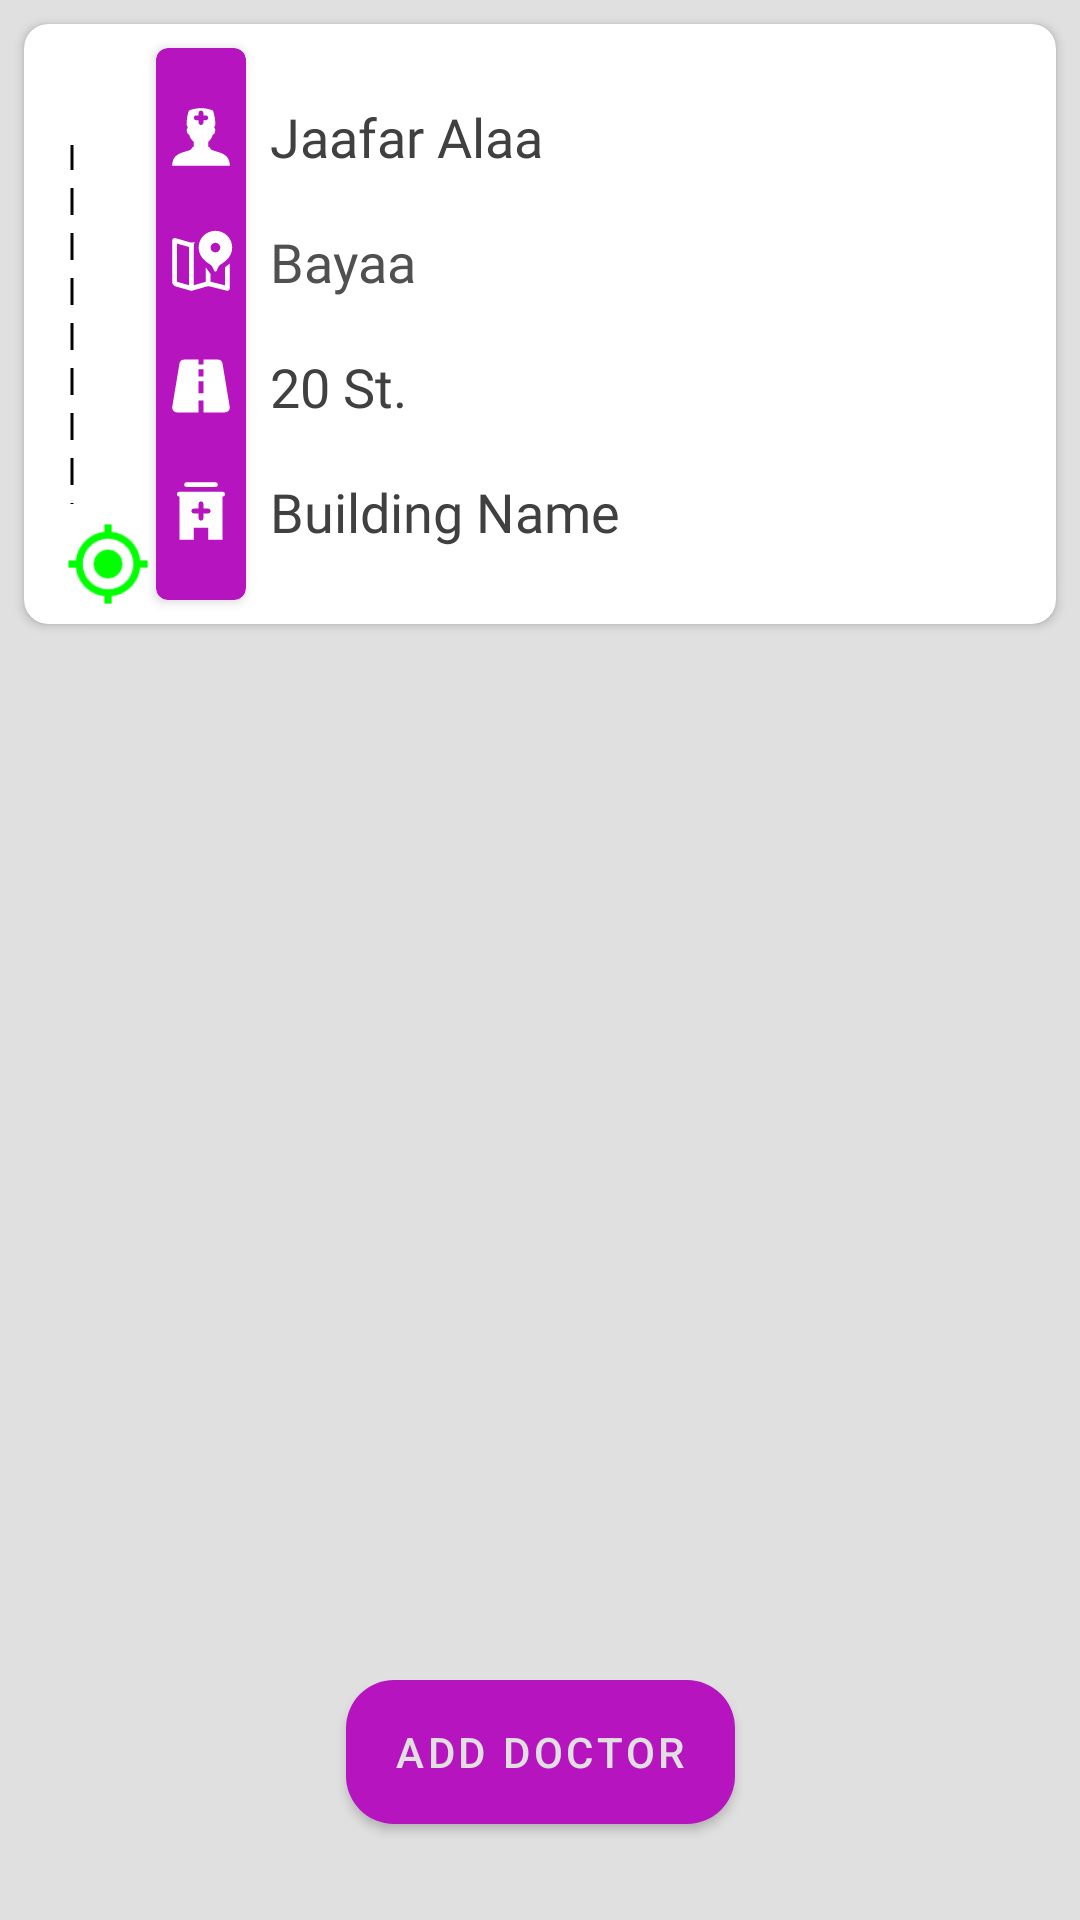

Named icons in this screenshot (1080*1920) and their bounding boxes, Rect(x1, y1, x2, y2):
address: Rect(172, 230, 233, 291)
doctor: Rect(172, 108, 230, 166)
street: Rect(172, 359, 230, 413)
